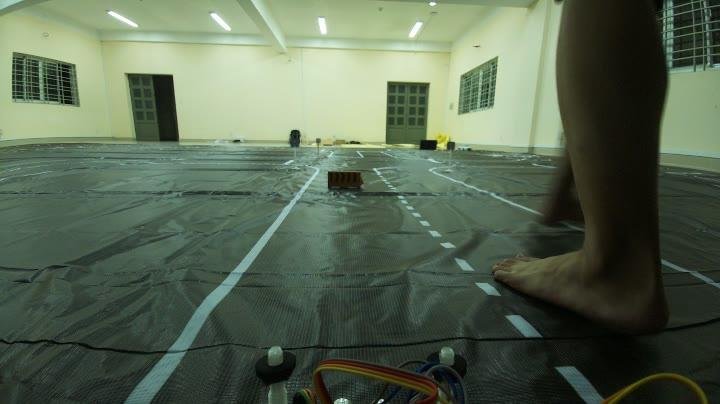roadblock: (320, 165, 368, 195)
